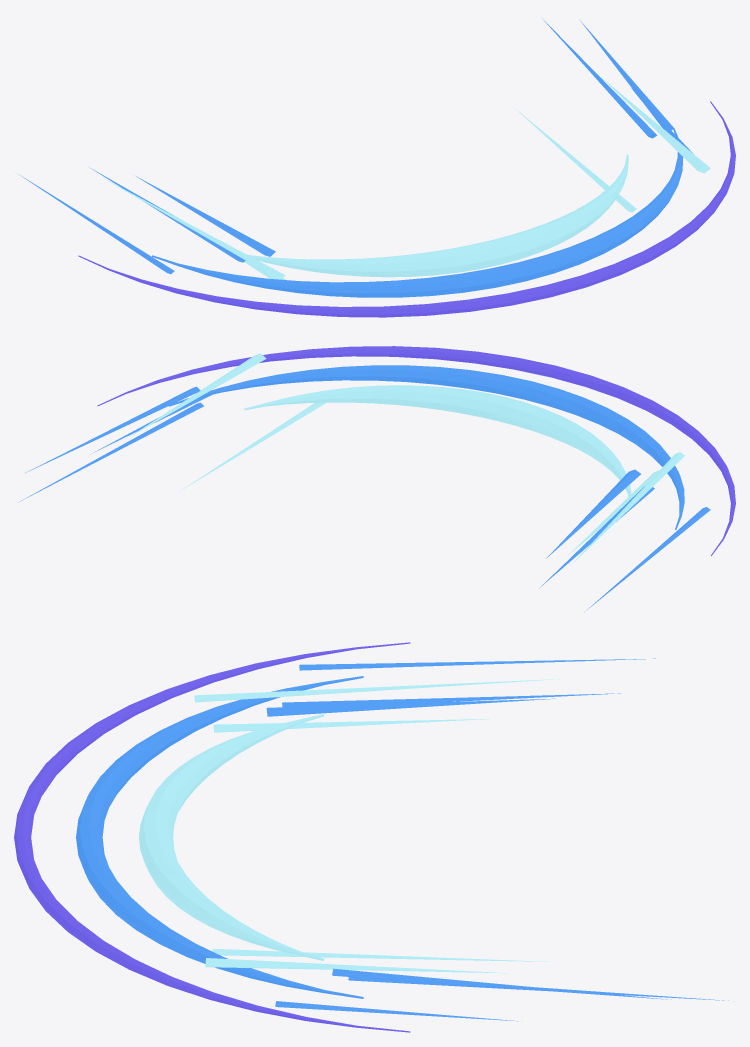
The model's file is rogue_bow_shock.glb.
3 views of the same model, one above another, from view 1: azimuth 30°, elevation 25°; view 2: azimuth 150°, elevation 25°; view 3: azimuth 270°, elevation 25° (orthographic). The views are drawn at different scales.
Parts seen in each view (by area): view 1: rogue_bow_shock; view 2: rogue_bow_shock; view 3: rogue_bow_shock.
Part boxes in pixels (box(x1,y1,x2,y2)): rogue_bow_shock: box(18, 18, 735, 317); rogue_bow_shock: box(18, 346, 735, 612); rogue_bow_shock: box(14, 642, 728, 1032).
Bounding box in the file's own units: 4.84 × 0.2312 × 3.79.
